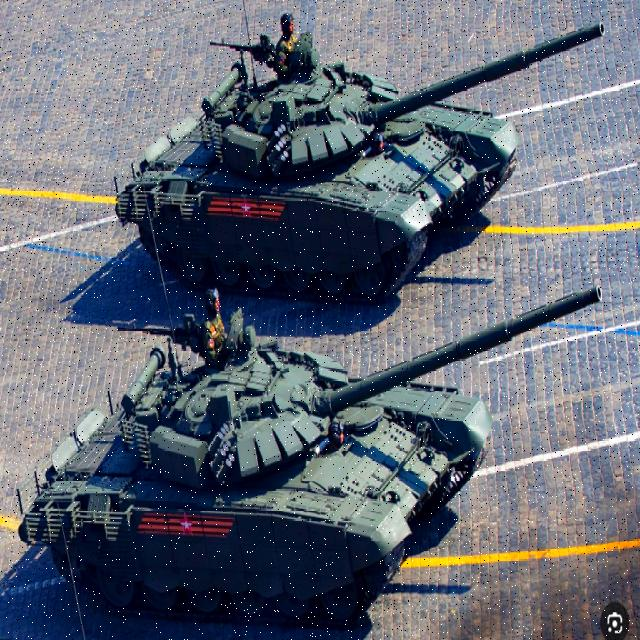TANK: (16, 280, 608, 638), (118, 12, 608, 306)
